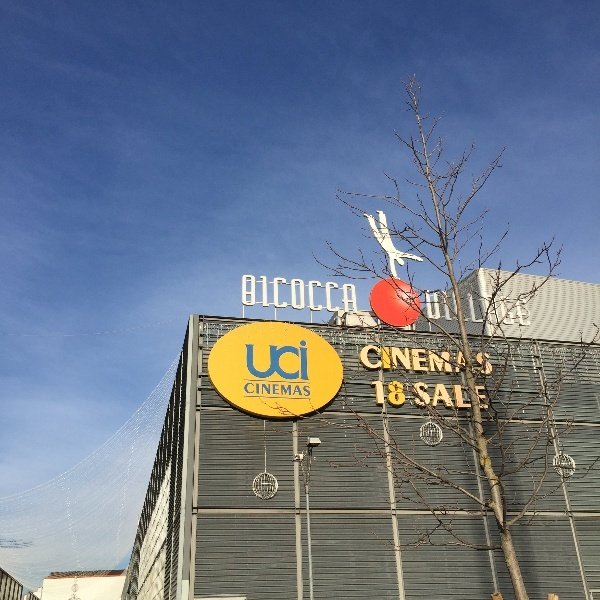text: (257, 274, 272, 316), (273, 274, 288, 316), (289, 274, 304, 316), (305, 274, 320, 316), (321, 274, 336, 316), (337, 274, 352, 316), (257, 341, 272, 381), (273, 341, 288, 381), (289, 341, 304, 381), (242, 274, 256, 316), (481, 294, 496, 328), (497, 294, 512, 328), (513, 294, 528, 328), (433, 289, 448, 322), (369, 346, 384, 376), (385, 346, 400, 376), (401, 346, 416, 376), (417, 346, 432, 376), (433, 346, 448, 376), (449, 346, 464, 376), (465, 346, 480, 376), (467, 294, 480, 328), (245, 341, 256, 381), (417, 382, 432, 411), (433, 382, 448, 411), (449, 382, 464, 411), (465, 382, 480, 411), (385, 381, 400, 408), (481, 346, 494, 376), (371, 381, 384, 408), (481, 382, 490, 411), (257, 382, 272, 398), (273, 382, 288, 398), (289, 382, 304, 398), (425, 289, 432, 322), (353, 274, 358, 316), (361, 346, 368, 376), (305, 341, 310, 381), (245, 382, 256, 398), (401, 381, 407, 408), (529, 294, 533, 328), (449, 289, 453, 322), (305, 382, 311, 398), (413, 382, 416, 411)
